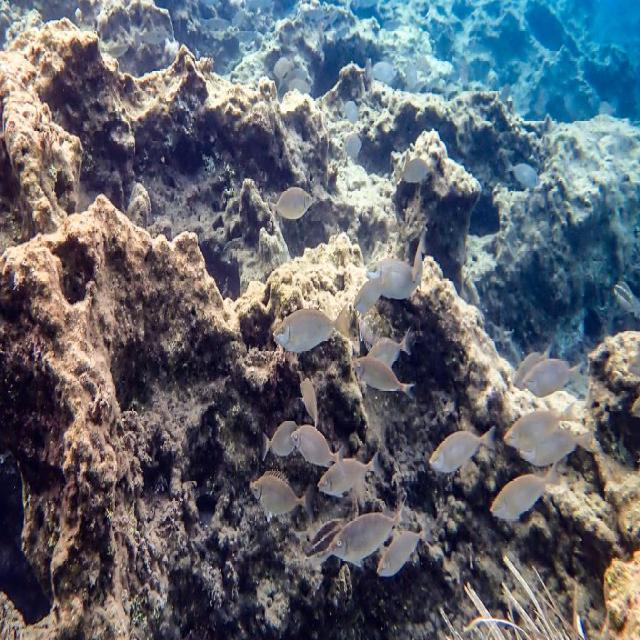Sokar Baligi: (265, 293, 355, 365), (502, 342, 598, 403), (348, 346, 418, 407), (316, 441, 386, 502), (266, 180, 317, 230), (388, 151, 437, 190)
